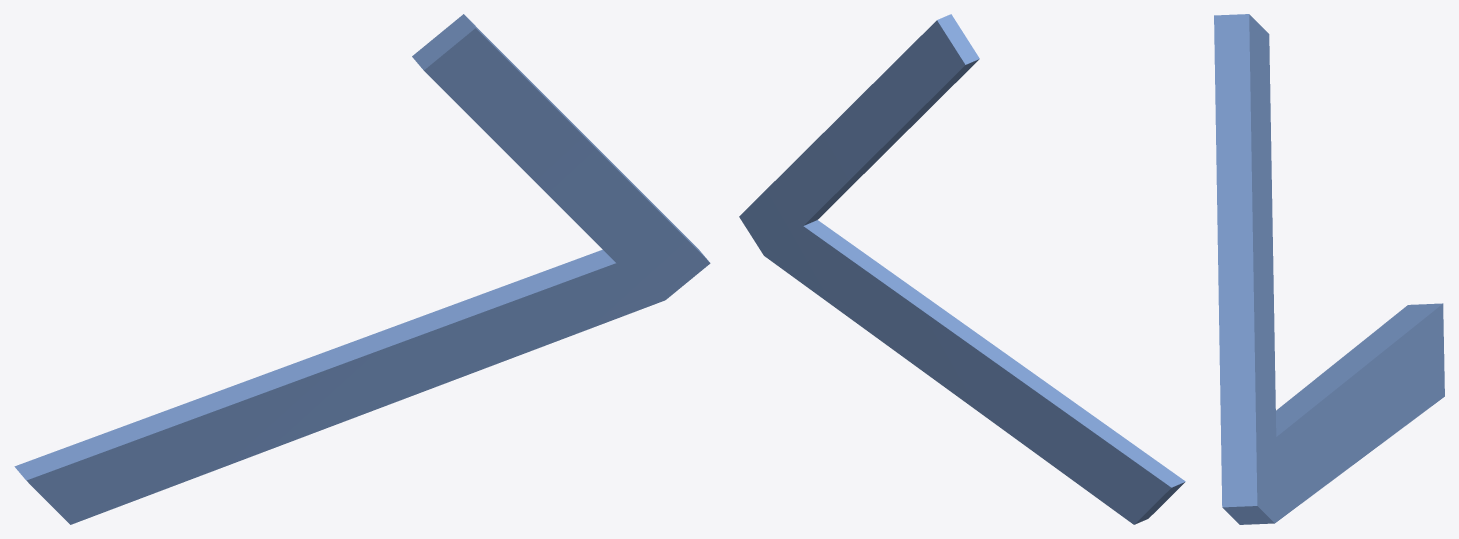
File: New_Number_7.gltf
3 views of the same model, side by side, from view 1: azimuth 30°, elevation 25°; view 2: azimuth 150°, elevation 25°; view 3: azimuth 270°, elevation 25° (orthographic). The views are drawn at different scales.
Parts seen in each view (by area): view 1: Part 97; view 2: Part 97; view 3: Part 97.
Boxes of the visible parts, box(x1,y1,x2,y2) form: Part 97: box(14, 14, 710, 524); Part 97: box(739, 14, 1185, 524); Part 97: box(1214, 14, 1444, 524).
Bounding box in the file's own units: 0.00603 × 0.00455 × 0.00166.
